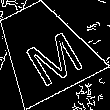M_NW: (8, 16, 79, 82)
